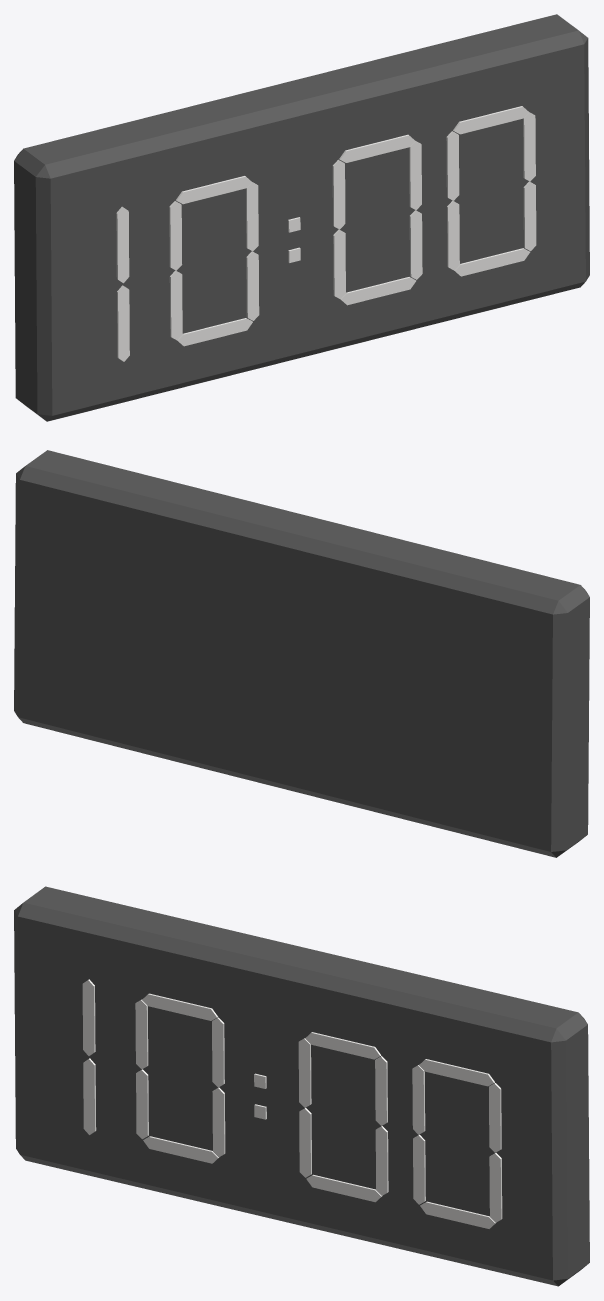
The model's file is Clock_4.fbx.
3 views of the same model, one above another, from view 1: azimuth 30°, elevation 25°; view 2: azimuth 150°, elevation 25°; view 3: azimuth 330°, elevation 25° (orthographic).
Parts seen in each view (by area): view 1: Clock_4; view 2: Clock_4; view 3: Clock_4.
Part boxes in pixels (x1=…): Clock_4: x1=14, y1=14, x2=589, y2=421; Clock_4: x1=14, y1=450, x2=589, y2=857; Clock_4: x1=14, y1=886, x2=589, y2=1286.
Bounding box in the file's own units: 124 × 13.31 × 56.17.
